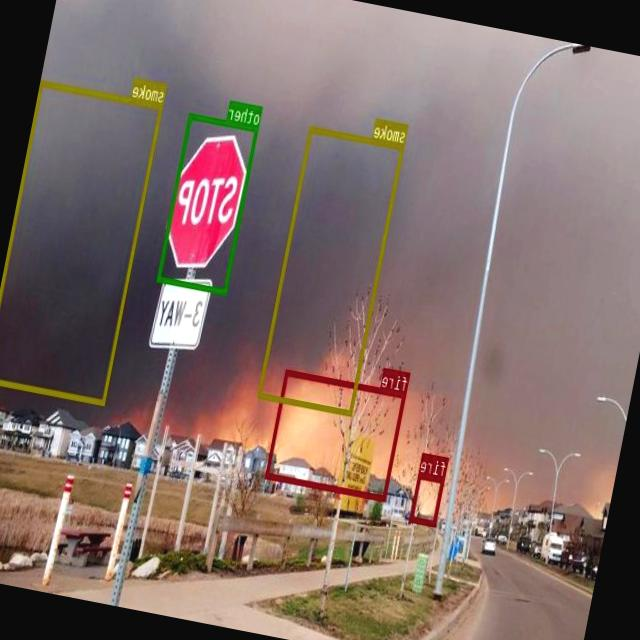fire: (266, 369, 408, 500), (410, 472, 446, 526)
smoke: (0, 80, 163, 404), (258, 126, 405, 416)
